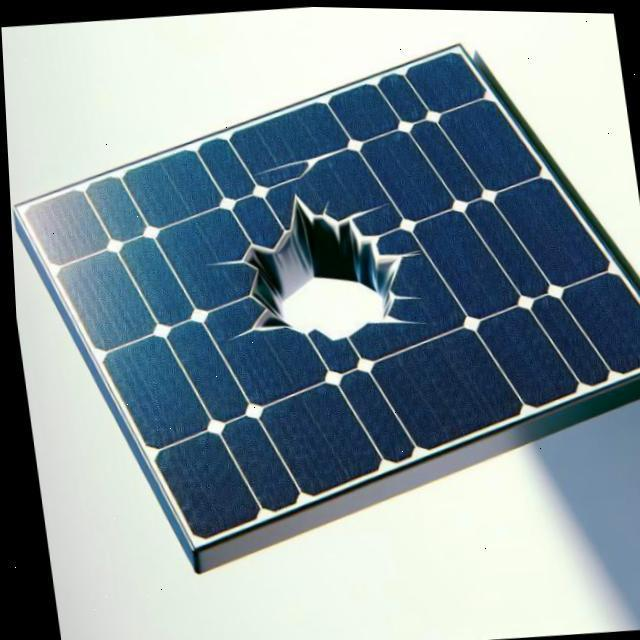Anomaly Solar Panel: (13, 19, 640, 556)
Structural Damage: (238, 197, 409, 347)
